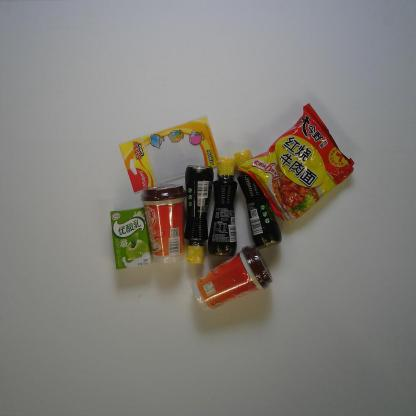Instant Drink: (191, 244, 274, 312), (139, 183, 187, 264)
Instant Noodles: (236, 102, 354, 224)
Milk: (109, 206, 154, 270)
Seasoner: (234, 149, 282, 250), (183, 164, 214, 265), (207, 157, 238, 257)
Stationery: (118, 114, 220, 195)
